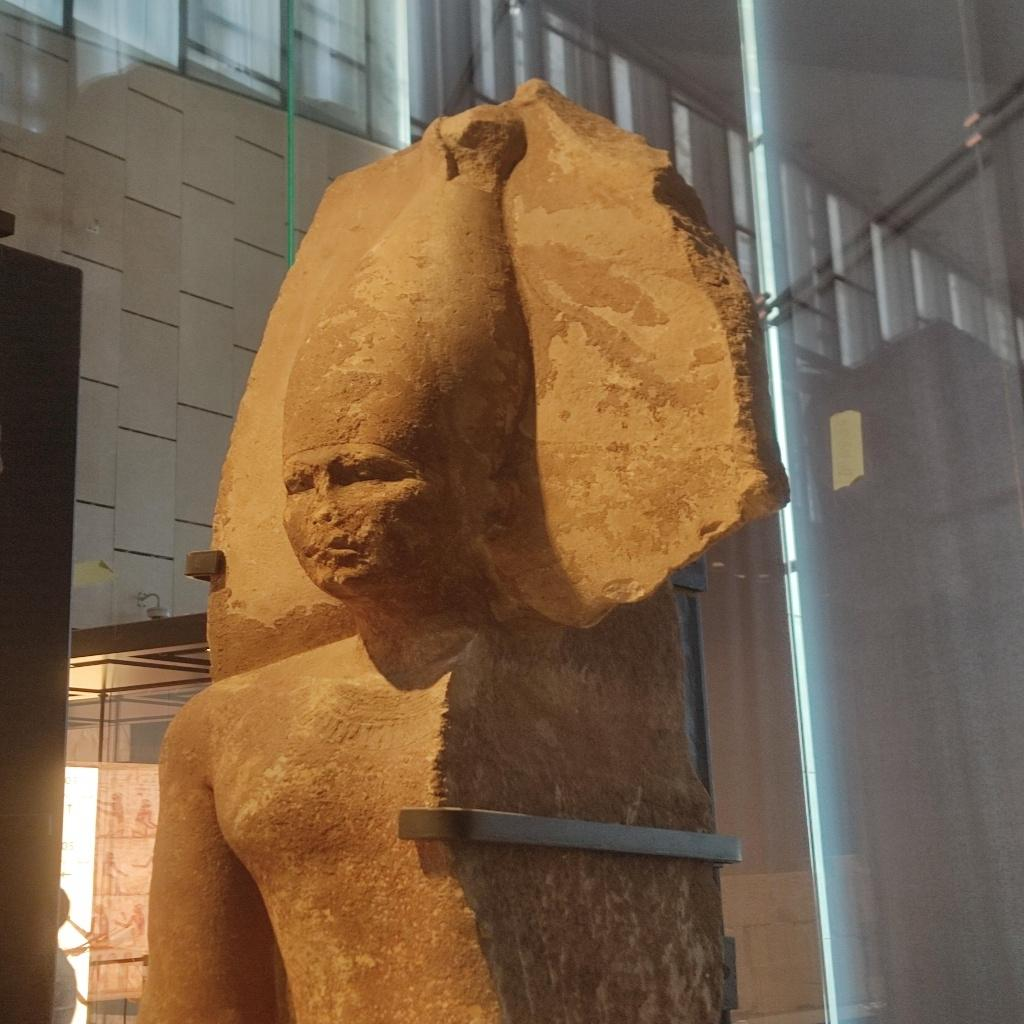Statue of Snefru: (132, 75, 796, 1020)
